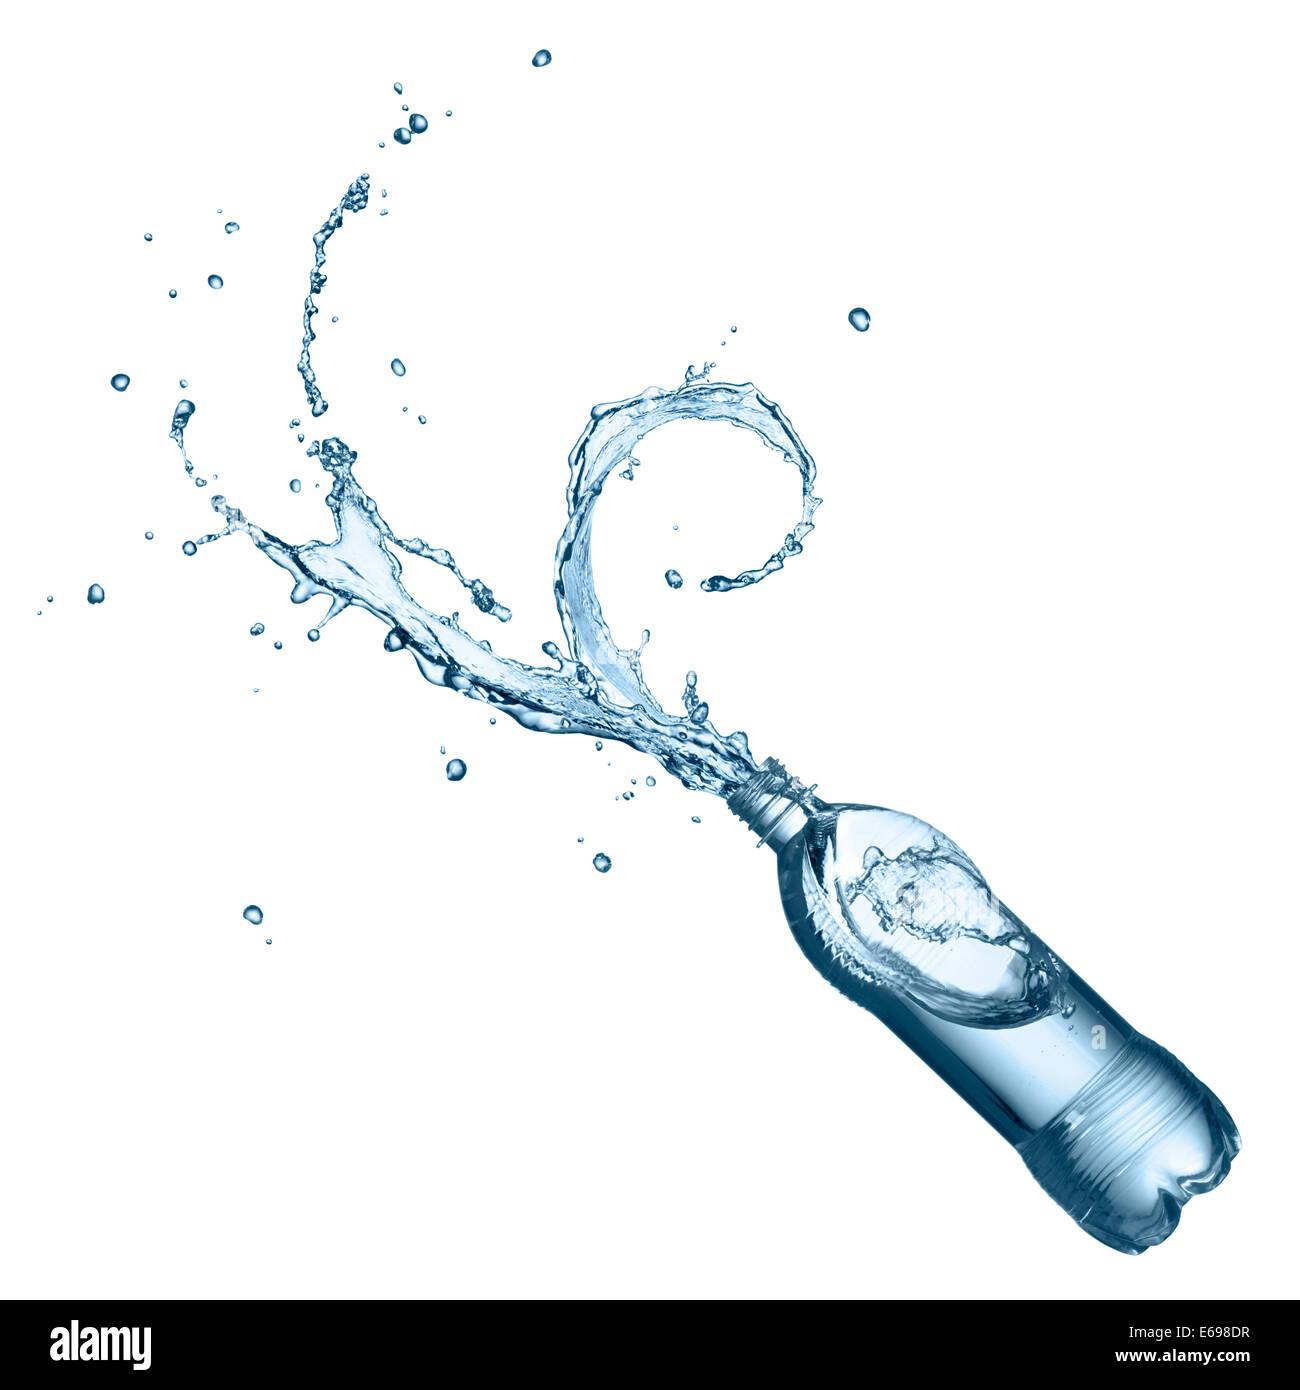bottle: (970, 743, 981, 1268)
